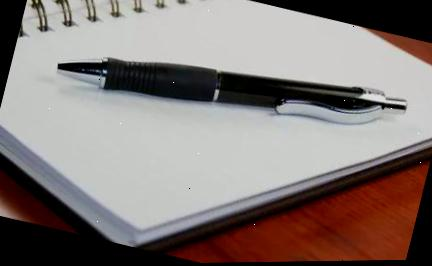pen-pencil: (57, 57, 405, 123)
